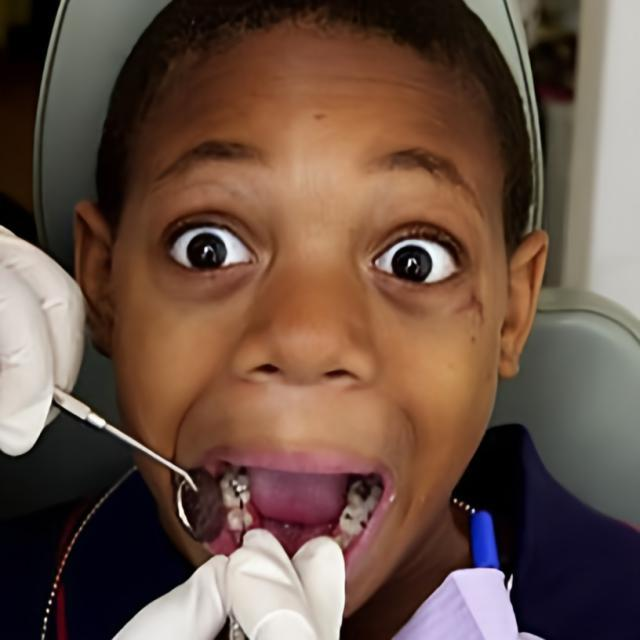Fear: (114, 12, 501, 632)
